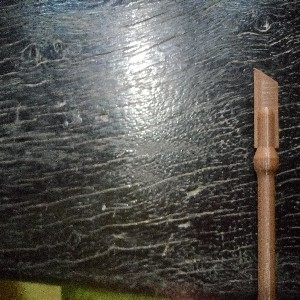cutter: (252, 65, 281, 300)
